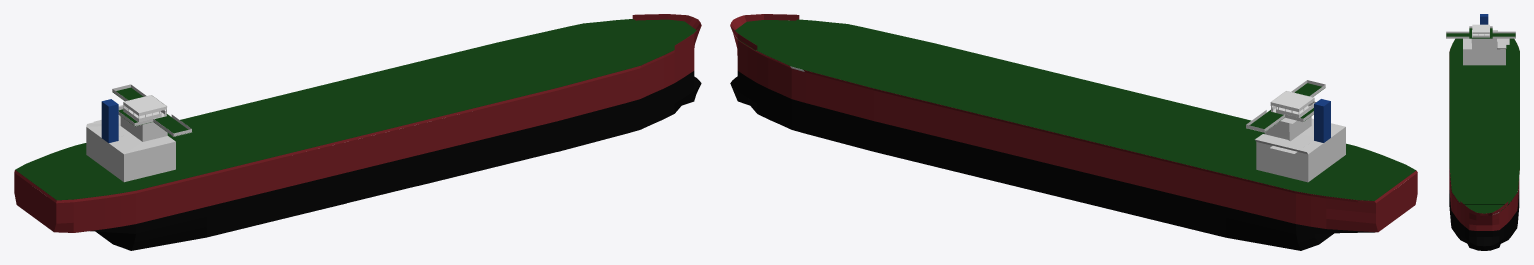
The model's file is bridgeAndHull.fbx.
3 views of the same model, side by side, from view 1: azimuth 30°, elevation 25°; view 2: azimuth 150°, elevation 25°; view 3: azimuth 270°, elevation 25° (orthographic). The views are drawn at different scales.
Parts seen in each view (by area): view 1: 平面.016; view 2: 平面.016; view 3: 平面.016.
Boxes of the visible parts, x1,y1,x2,y2 form: 平面.016: (14, 14, 701, 250); 平面.016: (730, 14, 1417, 250); 平面.016: (1446, 14, 1519, 250).
Size of the model in its own units: 23071 by 4275 by 3905.
